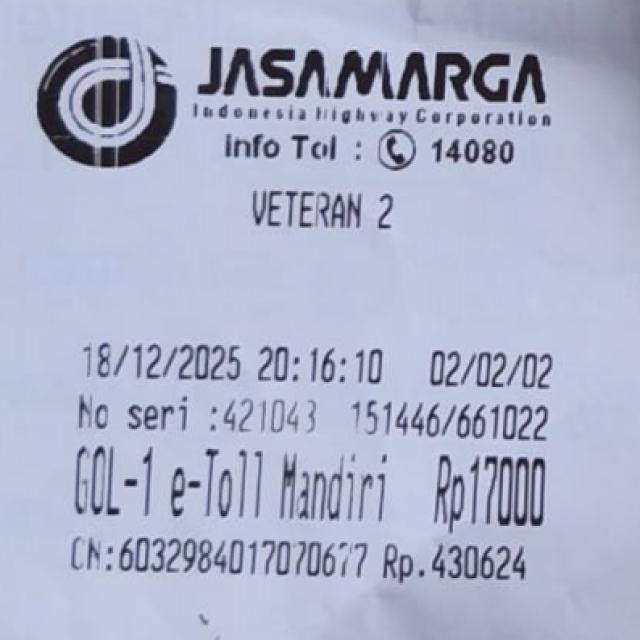date: (81, 335, 401, 387)
store: (189, 31, 564, 127)
total: (427, 450, 558, 532)
